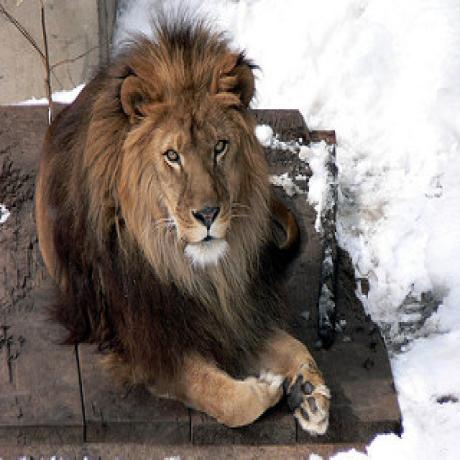Lion: (35, 6, 330, 442)
